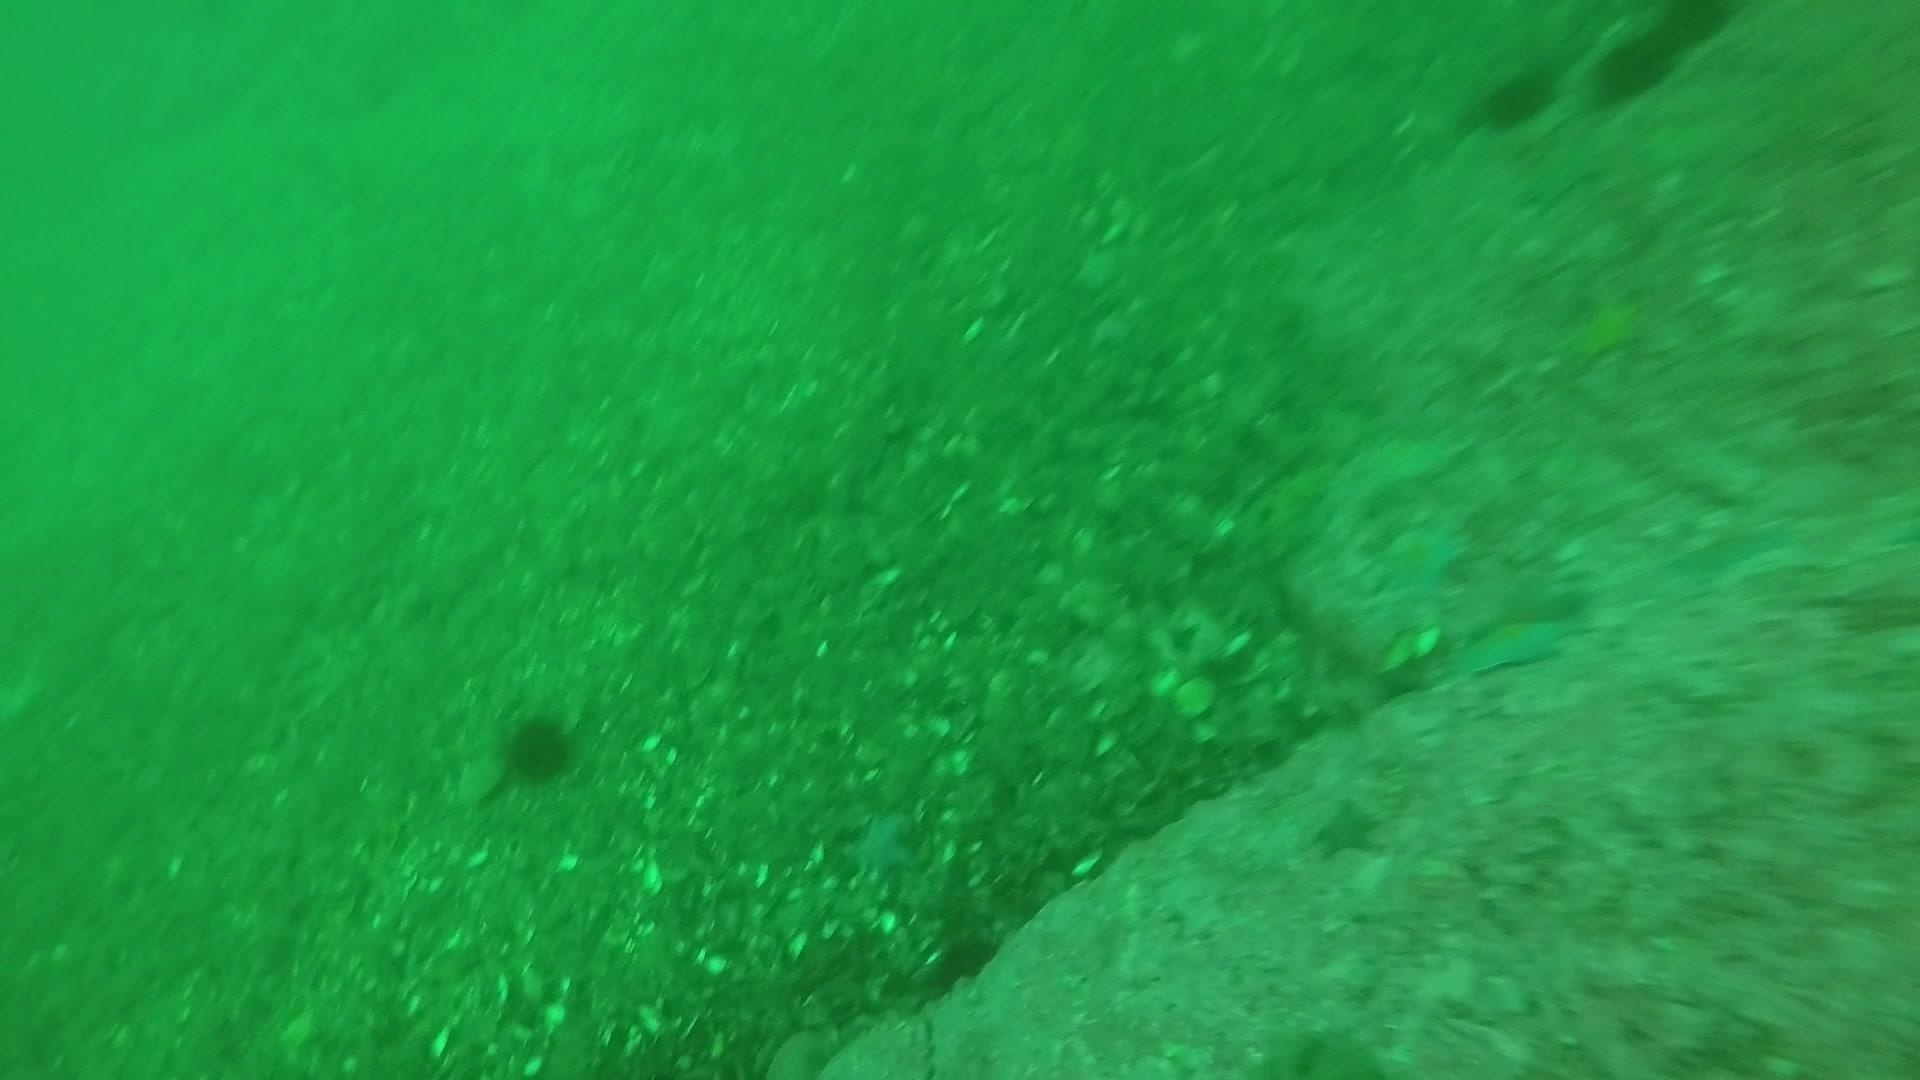echinus: (495, 705, 582, 790), (1468, 61, 1561, 138), (1588, 32, 1677, 108), (1644, 1, 1741, 53)
starfish: (1366, 512, 1474, 601), (1551, 284, 1658, 372), (1452, 611, 1582, 680), (836, 796, 926, 887), (1305, 796, 1386, 862)
